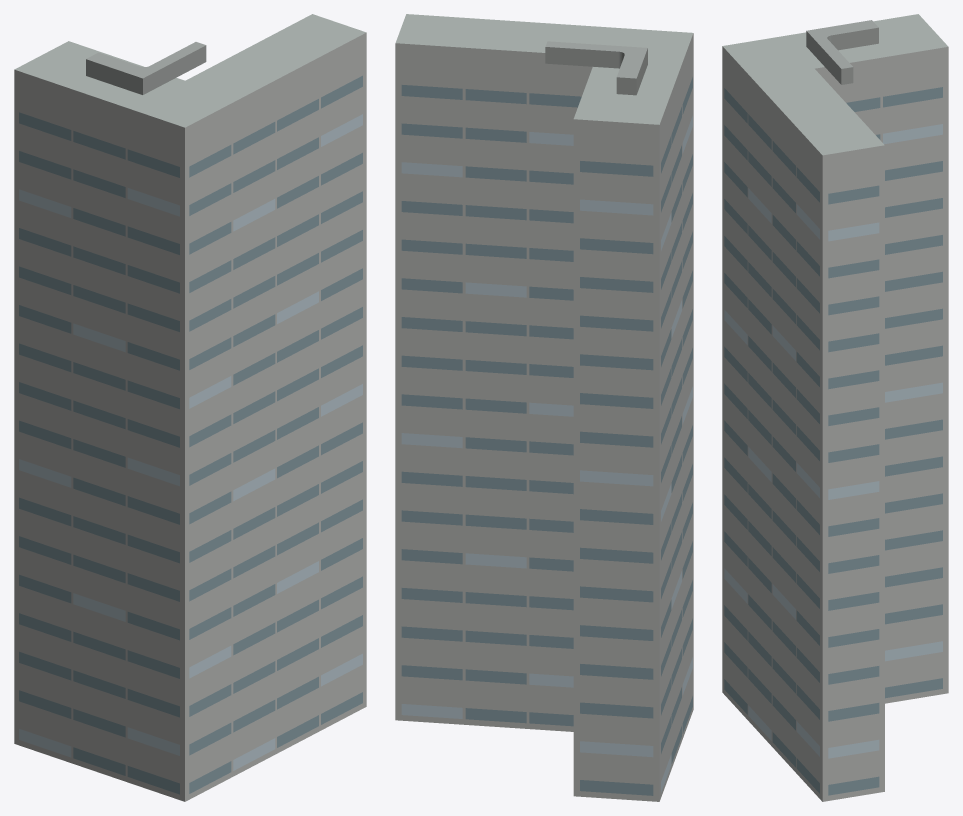
File: fallback-songpa-helio-city-105.glb
3 renders of one model, left to right at view 1: azimuth 30°, elevation 25°; view 2: azimuth 150°, elevation 25°; view 3: azimuth 270°, elevation 25°, orthographic. The views are drawn at different scales.
Parts seen in each view (by area): view 1: fallback-songpa-helio-city-105; view 2: fallback-songpa-helio-city-105; view 3: fallback-songpa-helio-city-105.
Boxes of the visible parts, left/top/right/bottom form: fallback-songpa-helio-city-105: left=14, top=14, right=366, bottom=801; fallback-songpa-helio-city-105: left=395, top=14, right=693, bottom=801; fallback-songpa-helio-city-105: left=722, top=14, right=948, bottom=801.
Bounding box in the file's own units: 45.33 × 99 × 30.62.
